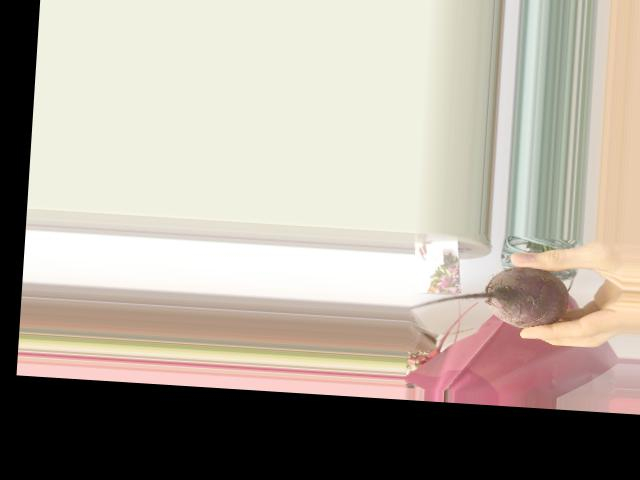beet: (407, 259, 572, 330)
